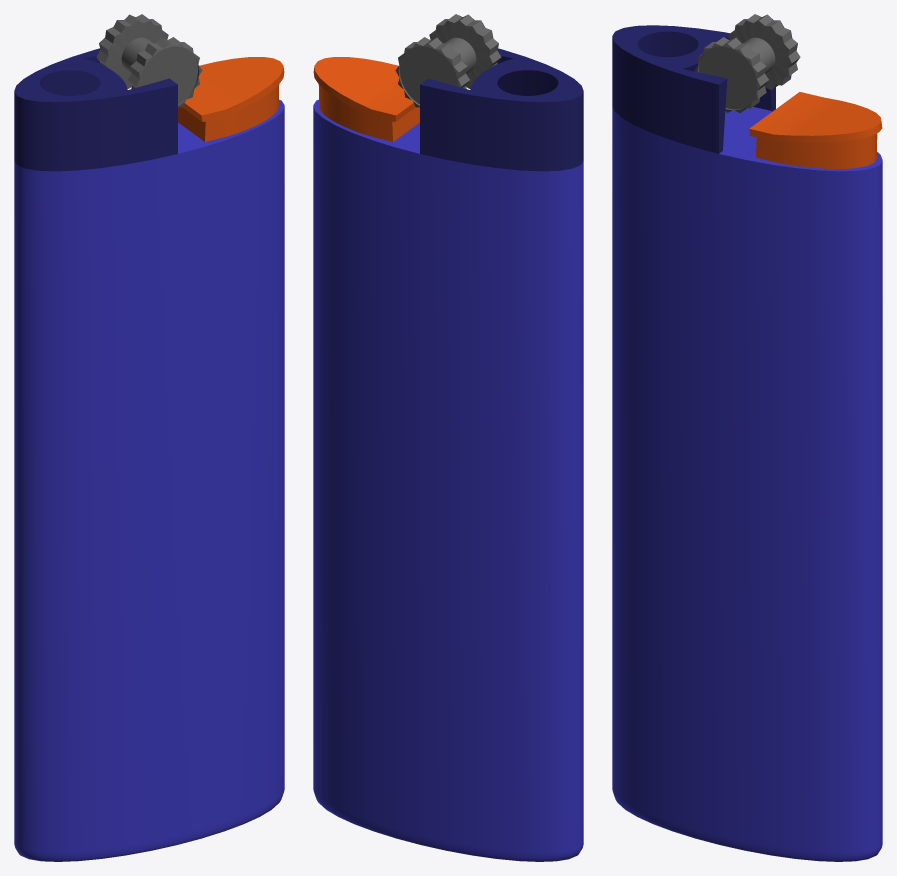
File: Lighter.fbx
The picture shows the model from 3 angles, left to right: view 1: azimuth 30°, elevation 25°; view 2: azimuth 150°, elevation 25°; view 3: azimuth 330°, elevation 25°; orthographic projection.
Visible parts, largest first — view 1: lighter; view 2: lighter; view 3: lighter.
Boxes of the visible parts, x1=… form: lighter: x1=14, y1=14, x2=284, y2=861; lighter: x1=313, y1=14, x2=583, y2=861; lighter: x1=612, y1=14, x2=882, y2=861.
Size of the model in its own units: 200 by 575 by 75.
Materials: 1 (1 with a texture image).
